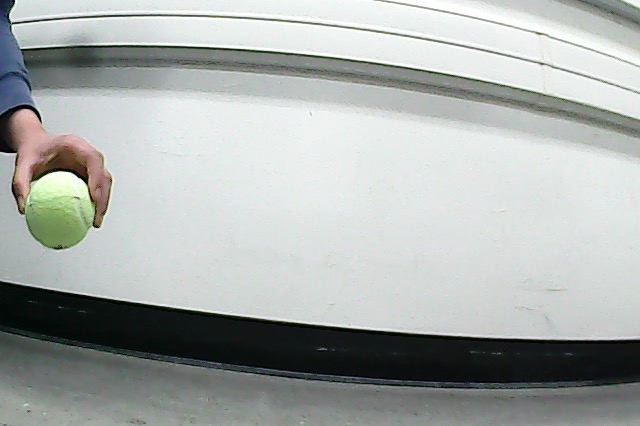ball: (26, 171, 97, 250)
